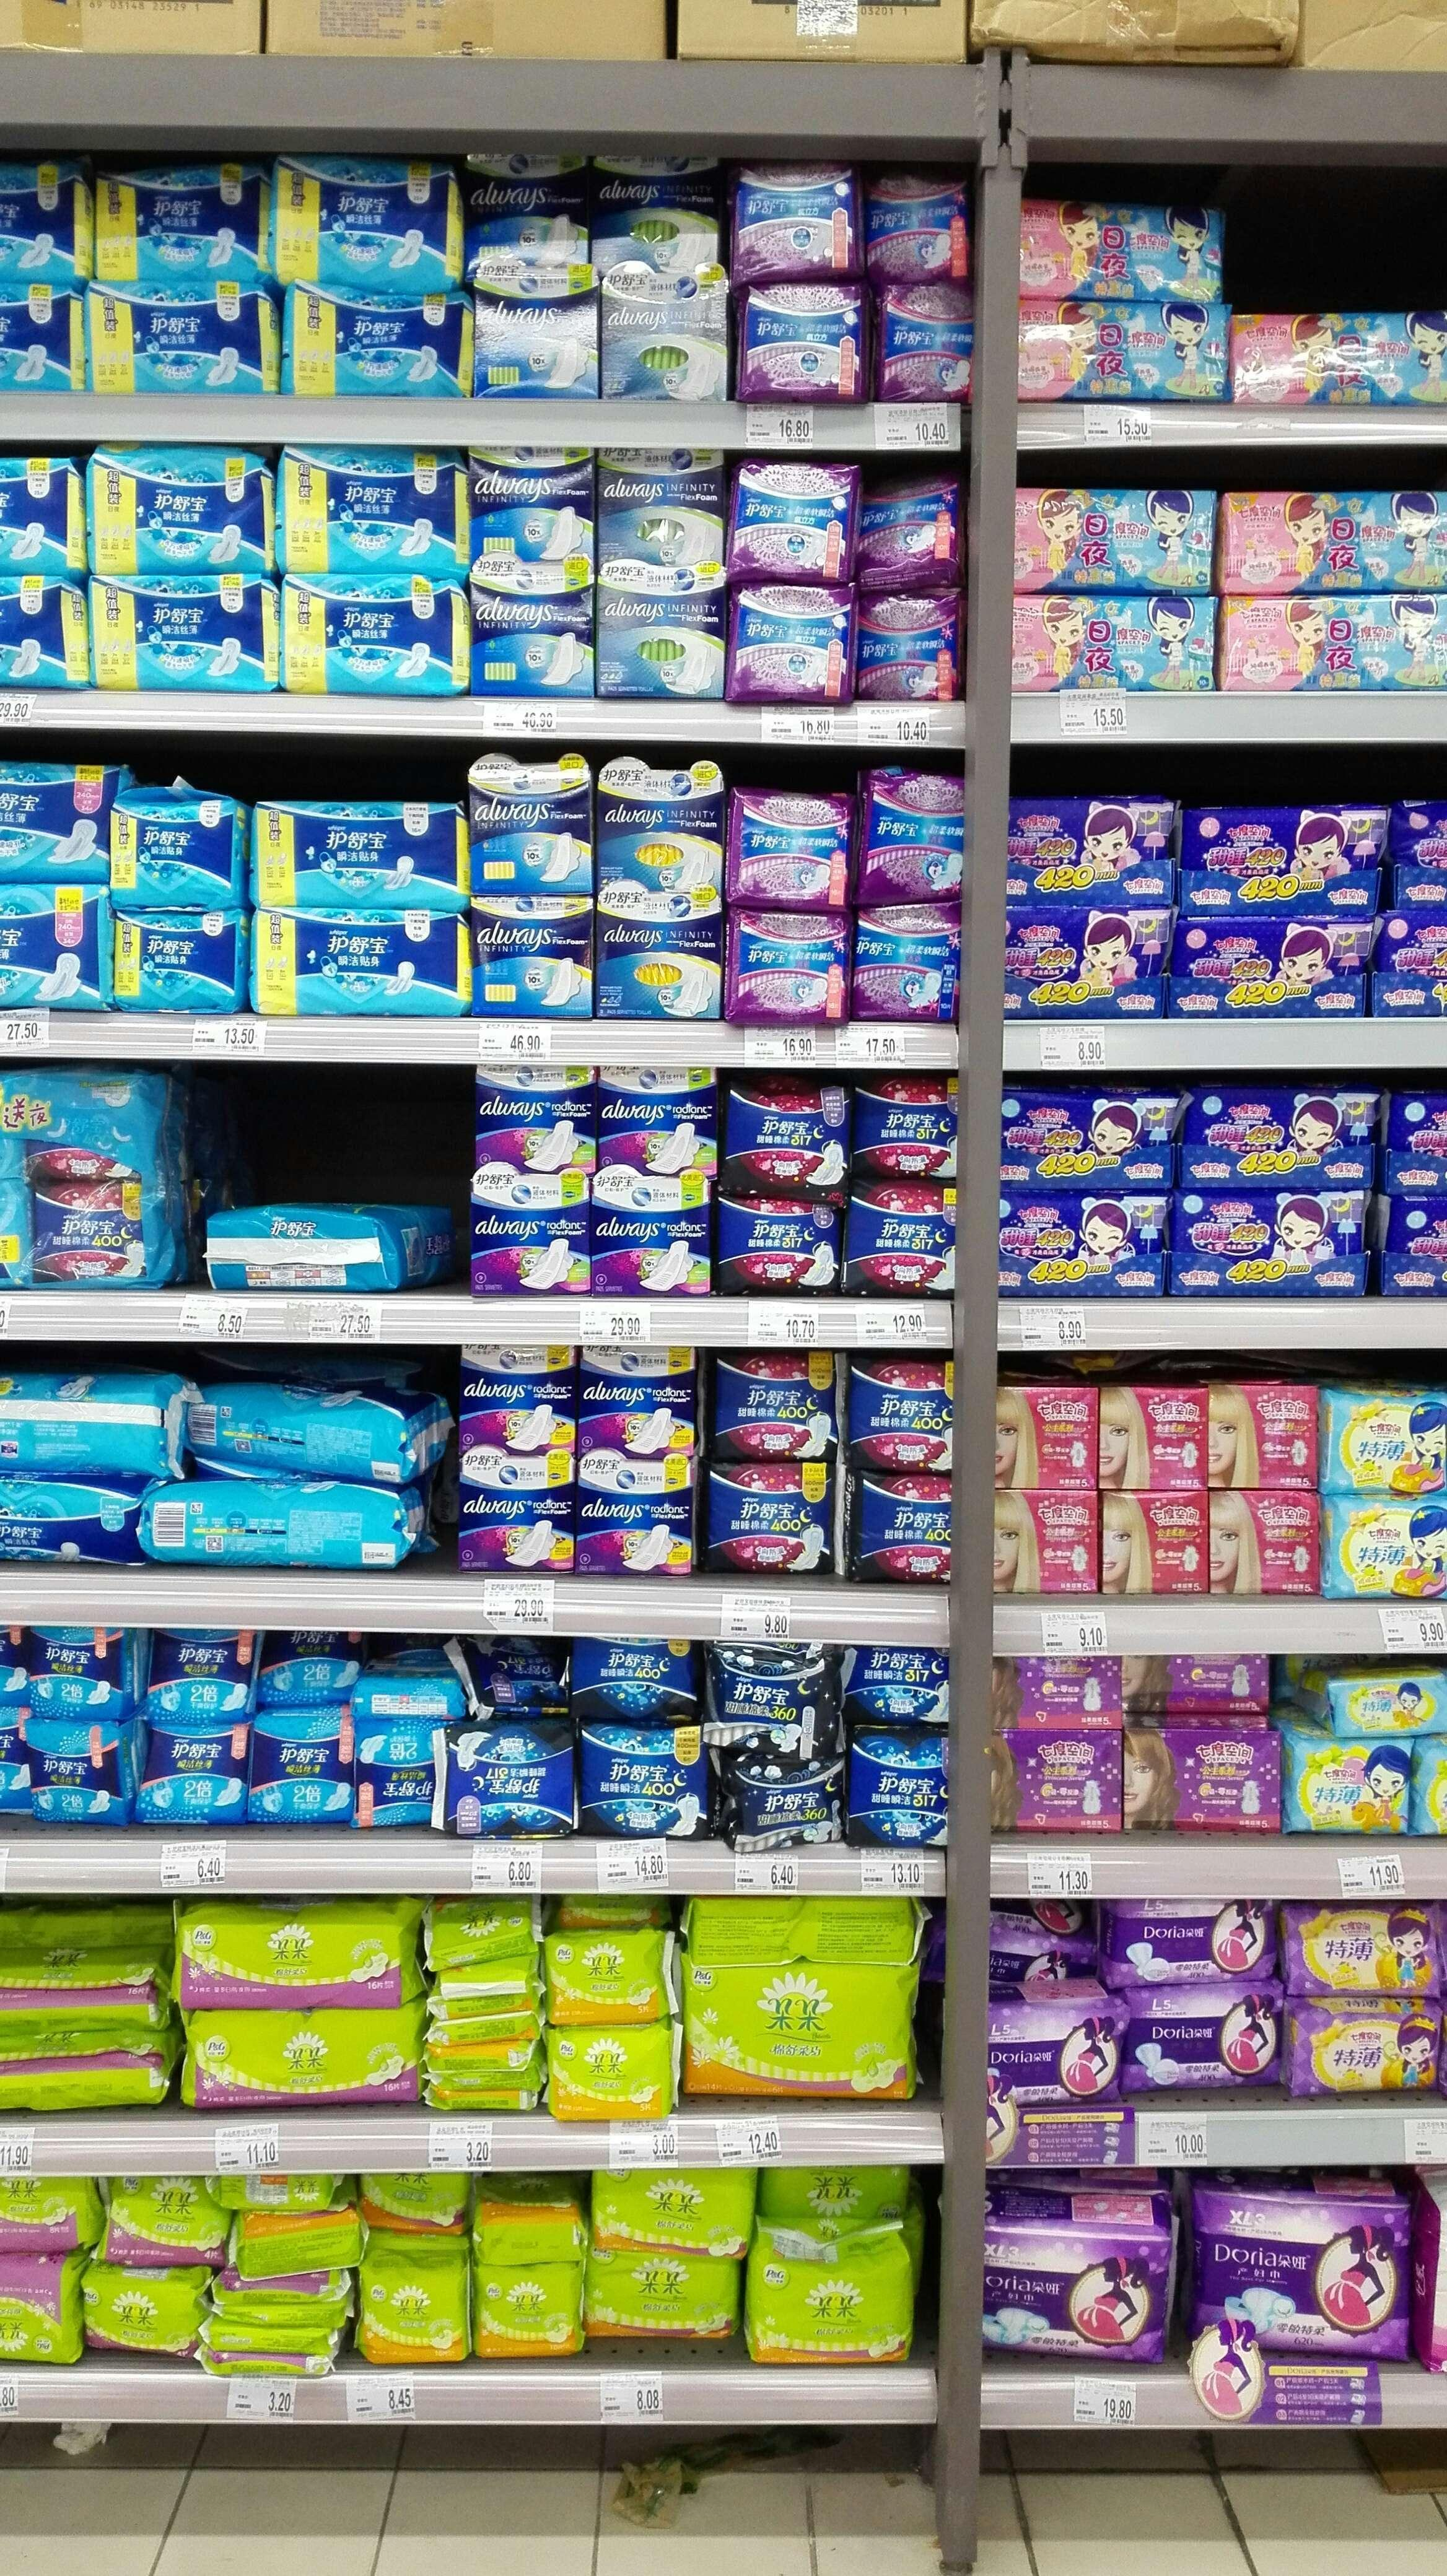misalignment: (203, 1178, 456, 1293), (193, 1373, 419, 1484), (157, 1479, 421, 1560), (0, 1373, 180, 1483), (478, 2162, 605, 2270), (453, 1640, 575, 1721), (234, 2199, 359, 2275)
